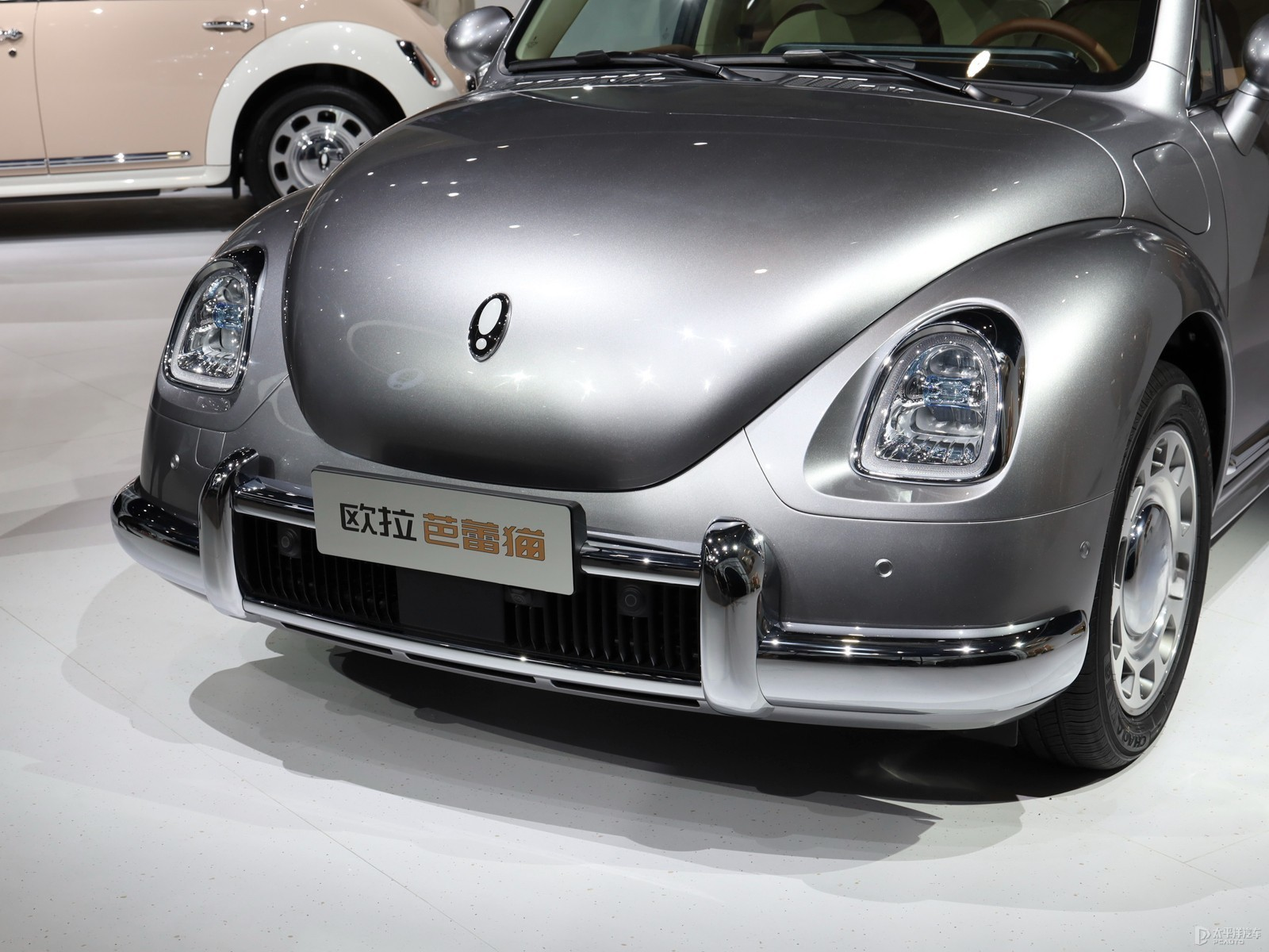ORA: (469, 294, 511, 361)
